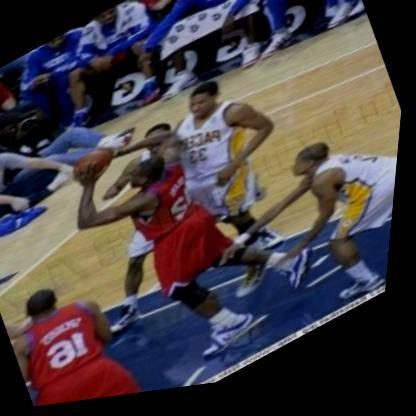basketball: (67, 140, 124, 194)
